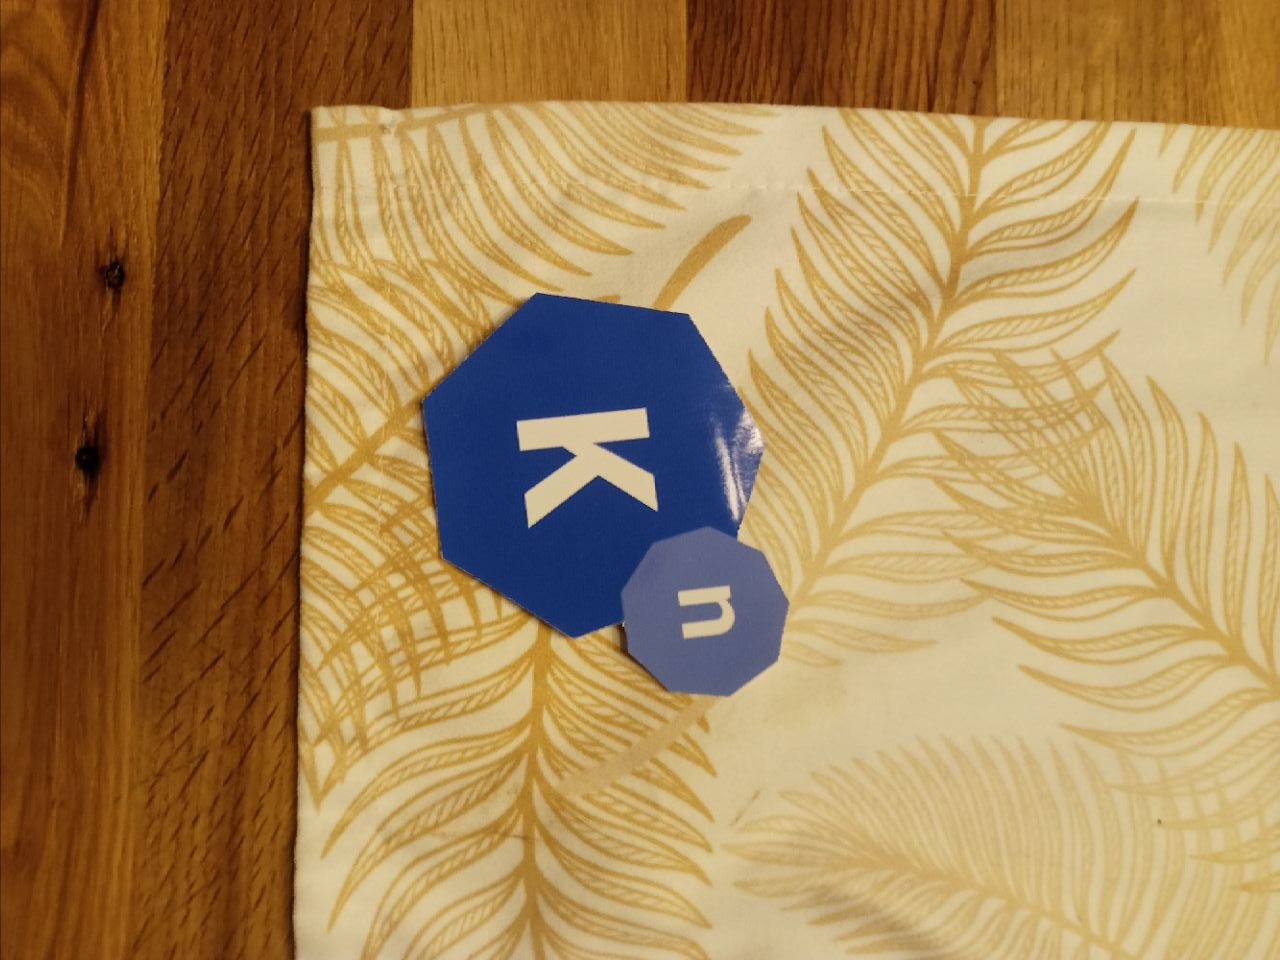knative: (416, 288, 789, 698)
